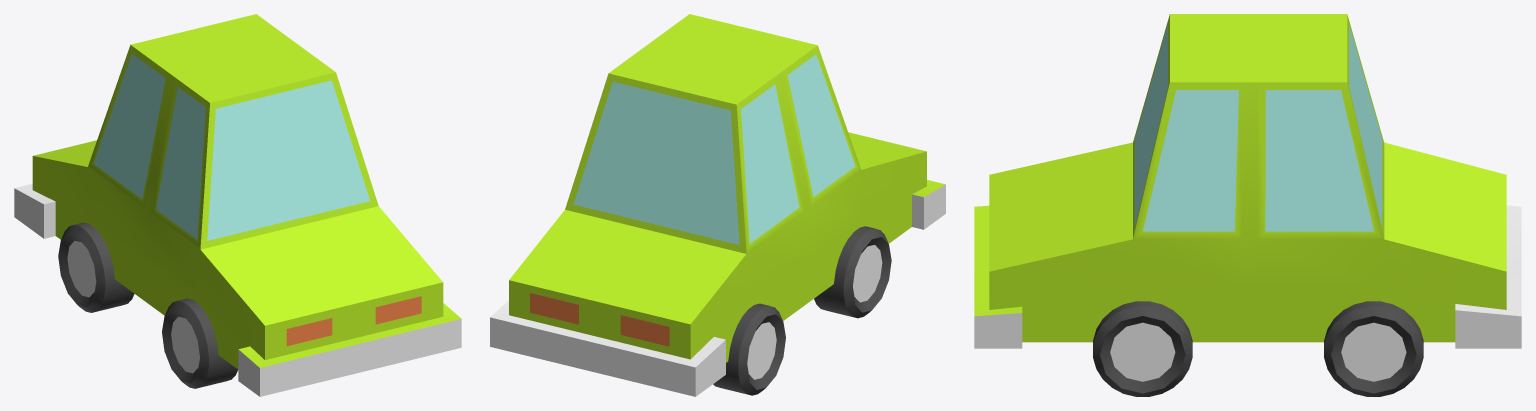
Rendered from basic car yellow.fbx.
The picture shows the model from 3 angles, left to right: view 1: azimuth 30°, elevation 25°; view 2: azimuth 150°, elevation 25°; view 3: azimuth 270°, elevation 25°; orthographic projection. The views are drawn at different scales.
Parts seen in each view (by area): view 1: body, pCylinder10, pCylinder9; view 2: body, pCylinder9, pCylinder10; view 3: body, pCylinder7, pCylinder8.
Part boxes in pixels (left/top/right/bottom): body: left=14, top=14, right=461, bottom=396; pCylinder10: left=58, top=222, right=134, bottom=312; pCylinder9: left=162, top=298, right=237, bottom=388; body: left=490, top=14, right=945, bottom=396; pCylinder9: left=814, top=226, right=891, bottom=318; pCylinder10: left=713, top=303, right=785, bottom=395; body: left=974, top=14, right=1521, bottom=348; pCylinder7: left=1093, top=301, right=1192, bottom=396; pCylinder8: left=1324, top=301, right=1423, bottom=396.
Size of the model in its own units: 40.85 by 49.54 by 83.34.
Materials: 1 (1 with a texture image).
